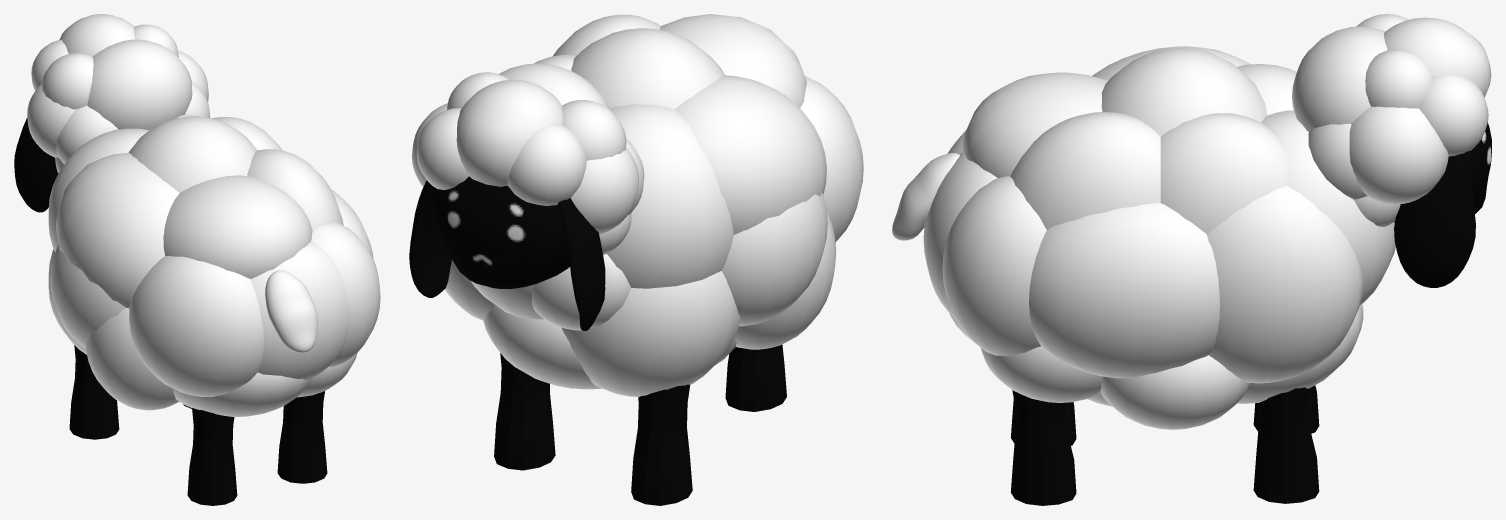
The model's file is SheepBase.fbx.
The picture shows the model from 3 angles, left to right: view 1: azimuth 30°, elevation 25°; view 2: azimuth 150°, elevation 25°; view 3: azimuth 270°, elevation 25°; orthographic projection. The views are drawn at different scales.
Parts seen in each view (by area): view 1: pCylinder9; view 2: pCylinder9; view 3: pCylinder9.
Boxes of the visible parts, <box> form: pCylinder9: <box>14,14,380,505</box>; pCylinder9: <box>409,14,863,505</box>; pCylinder9: <box>892,14,1491,505</box>.
Size of the model in its own units: 2.41 by 2.95 by 3.62.
Materials: 1 (1 with a texture image).
